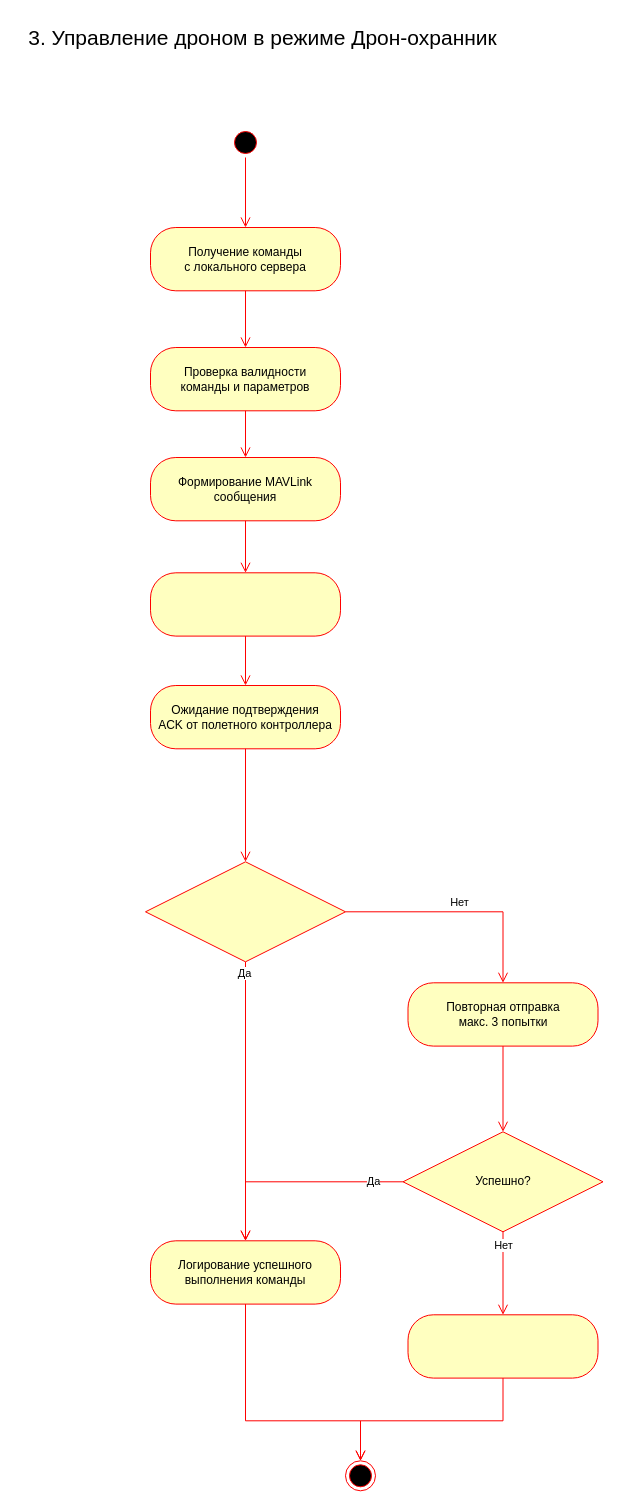
Image size: 620x1508. Some labels were removed from this diagram. The box of each missing label's shape, as (x1, y1, x2, y2) in pixels:
Запись ошибки в лог и уведомление оператора: (407, 1314, 598, 1378)
Отправка сообщения через UART соединение: (150, 572, 340, 636)
Подтверждение получено?: (144, 861, 346, 962)
